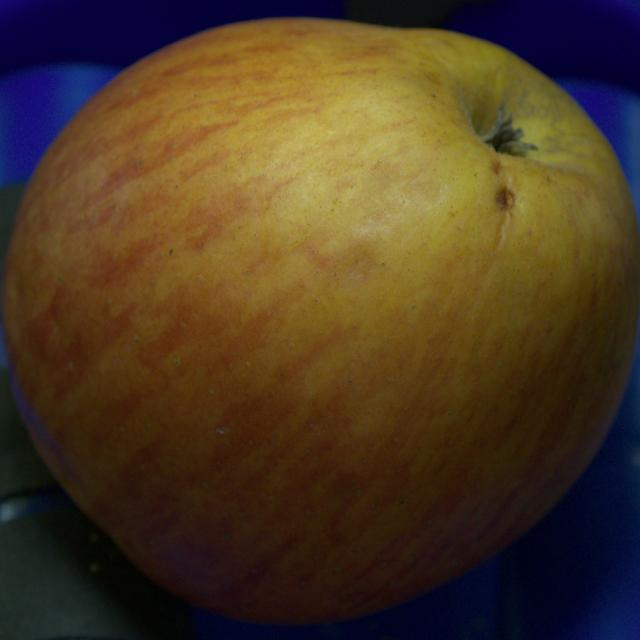apple: (0, 19, 639, 624)
pest: (495, 186, 514, 209)
scratch: (498, 202, 512, 251), (501, 189, 514, 199)
